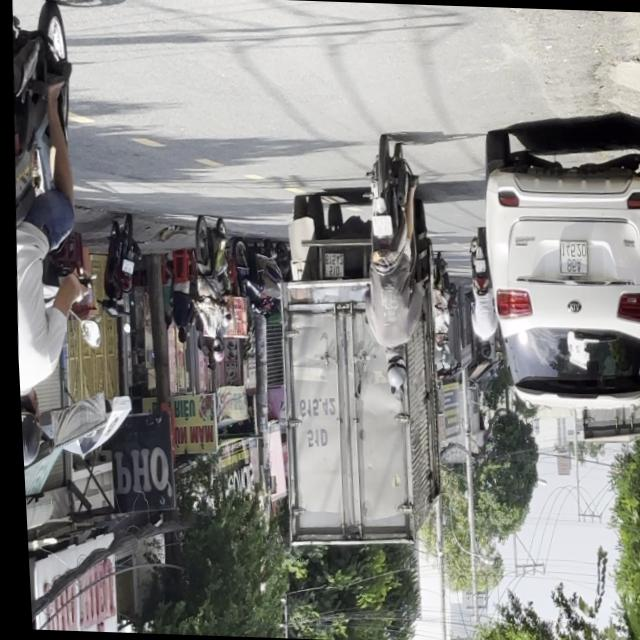helmet: (16, 386, 40, 467), (378, 346, 403, 388)
licenseplate: (0, 0, 98, 469), (349, 136, 432, 392)
nohelmet: (367, 214, 389, 236)
